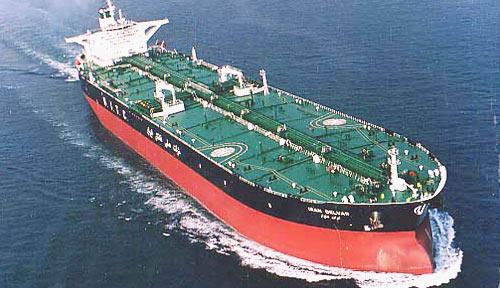Cargoship: (61, 1, 451, 282)
